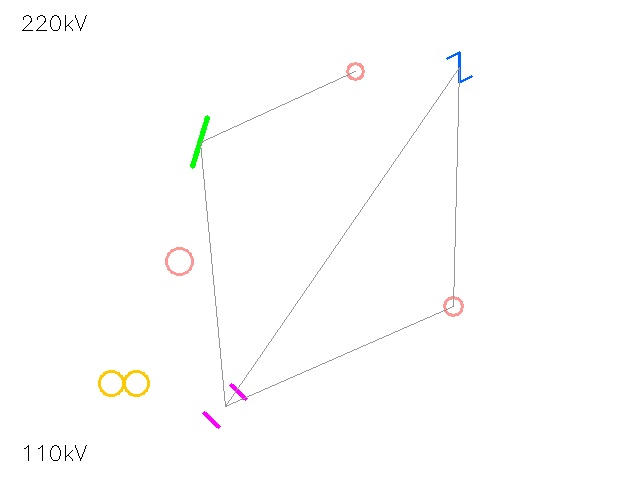busbar: (168, 110, 232, 174)
capacitor: (193, 374, 257, 438)
circuit_breaker: (444, 52, 474, 82)
feeder_terminal: (434, 287, 472, 325), (338, 54, 372, 88)
transformer_2w: (93, 352, 155, 414)
voltage_transformer: (153, 235, 205, 287)
